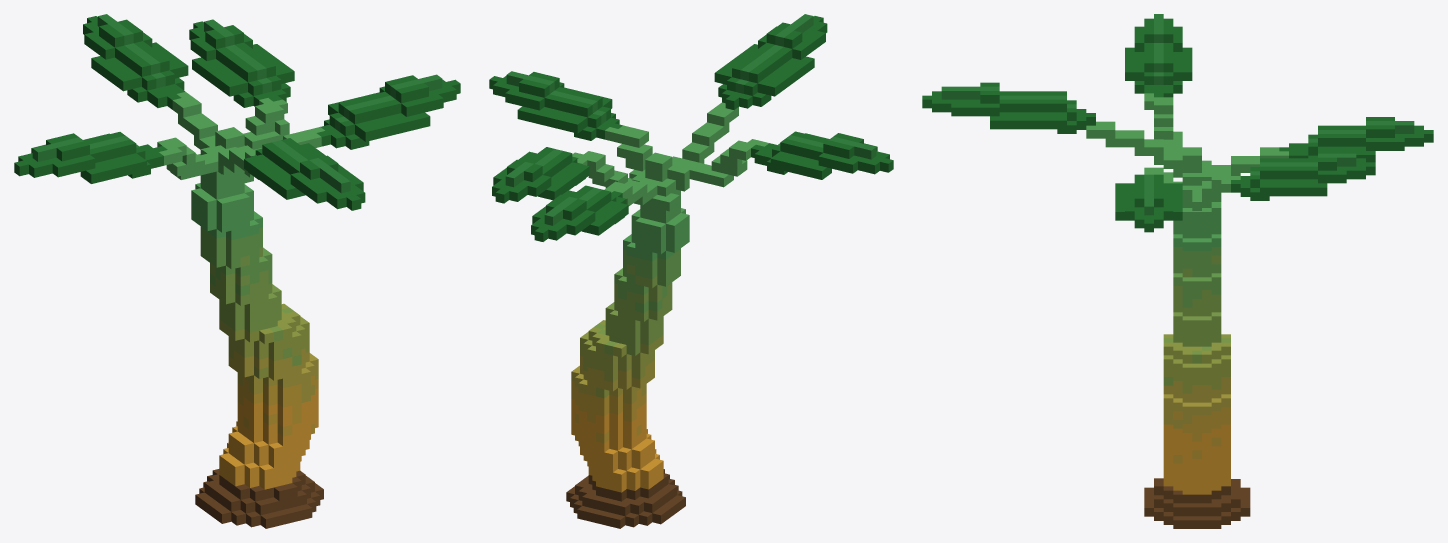
Rendered from 2_3 bana.obj.
The picture shows the model from 3 angles, left to right: view 1: azimuth 30°, elevation 25°; view 2: azimuth 150°, elevation 25°; view 3: azimuth 270°, elevation 25°; orthographic projection. The views are drawn at different scales.
Size of the model in its own units: 4.7 by 4.5 by 5.3.
1 material, 1 textured.
